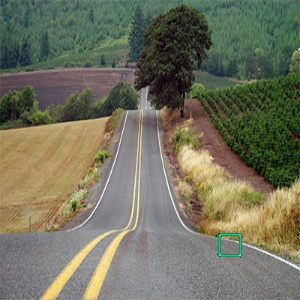square: (217, 232, 244, 259)
